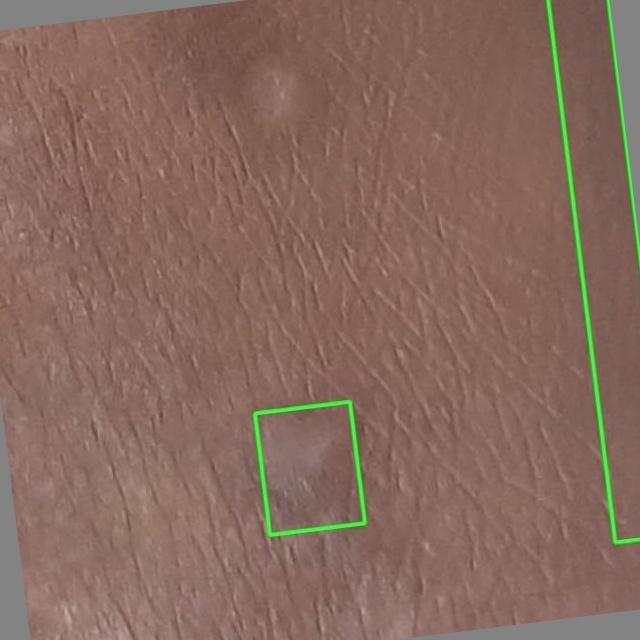Eczema: (548, 0, 639, 542), (254, 401, 364, 534)
